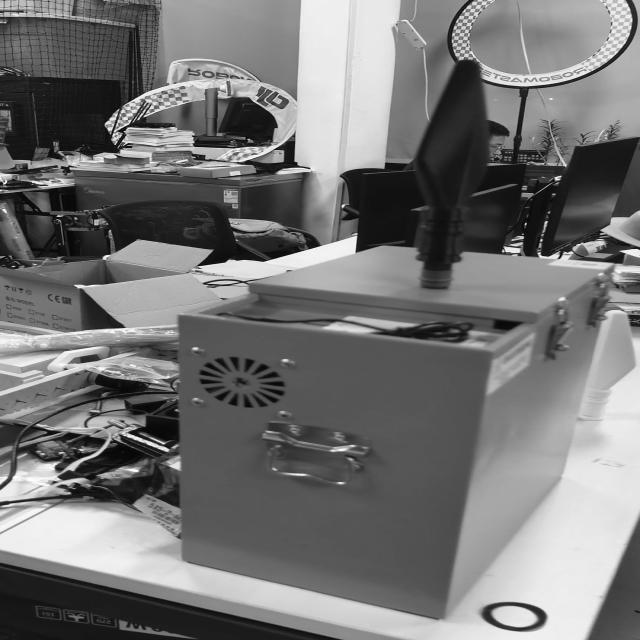base: (419, 268, 452, 290)
